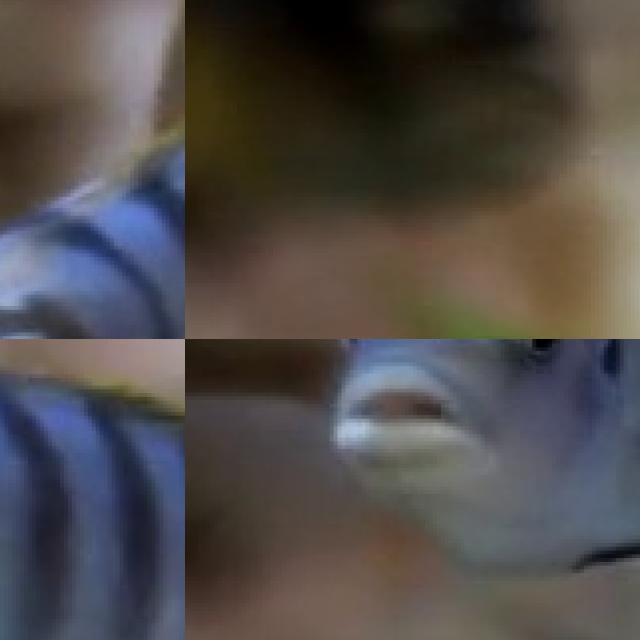fish: (0, 0, 185, 339), (0, 348, 185, 640), (194, 543, 640, 640)
